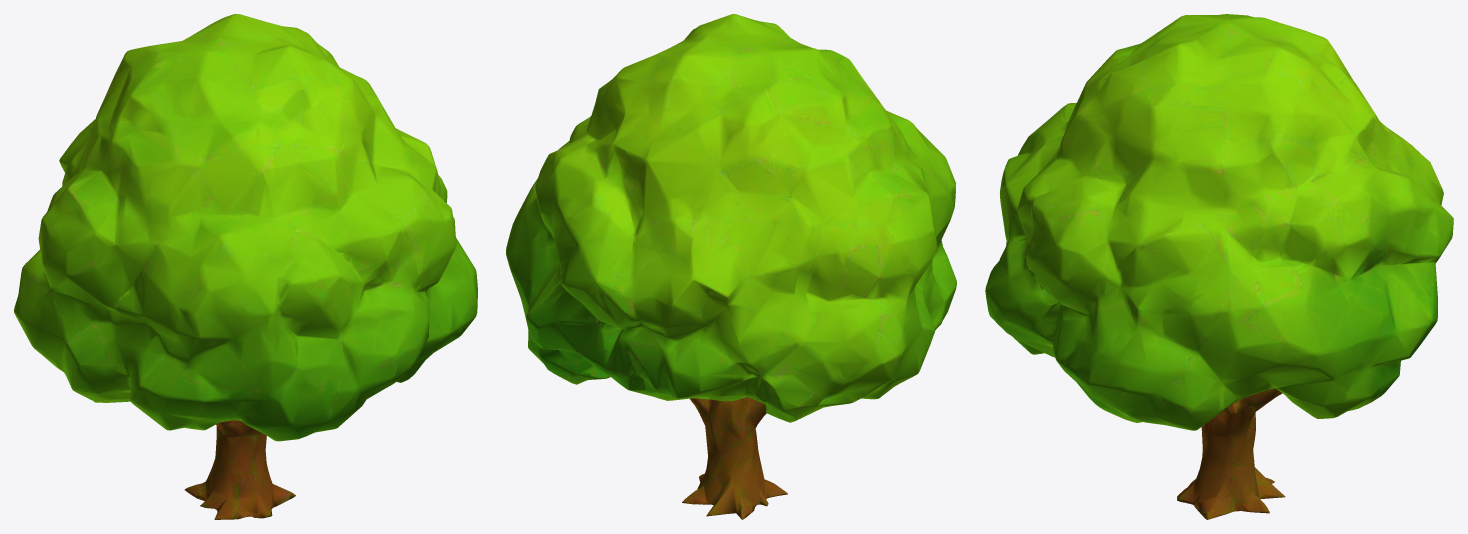
File: tree1-round.glb
3 views of the same model, side by side, from view 1: azimuth 30°, elevation 25°; view 2: azimuth 150°, elevation 25°; view 3: azimuth 270°, elevation 25° (orthographic).
Bounding box in the file's own units: 1.67 × 1.9 × 1.73.
Materials: 1 (1 with a texture image).
